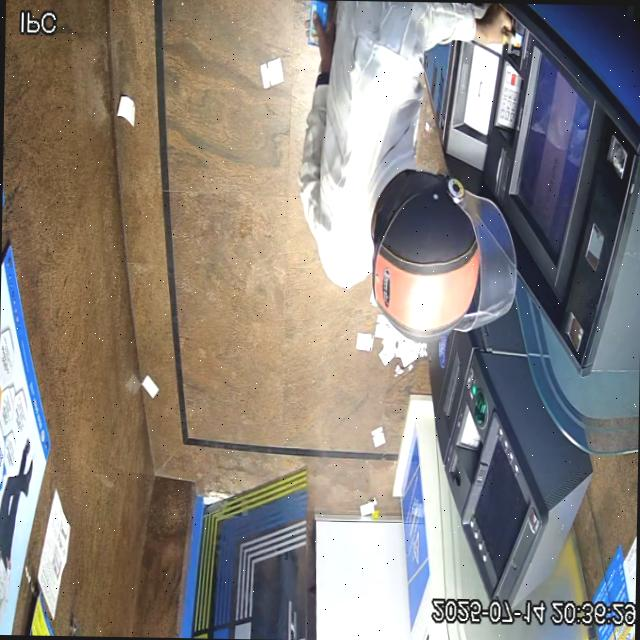helmet: (372, 169, 517, 343)
